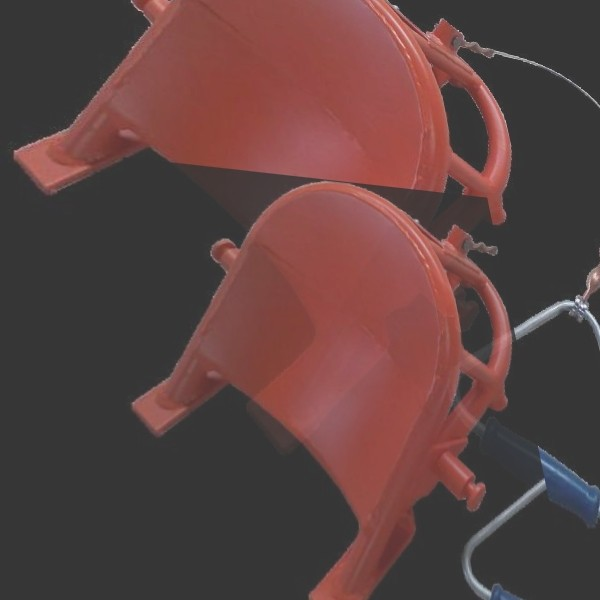chock: (0, 0, 582, 483), (123, 157, 568, 600)
